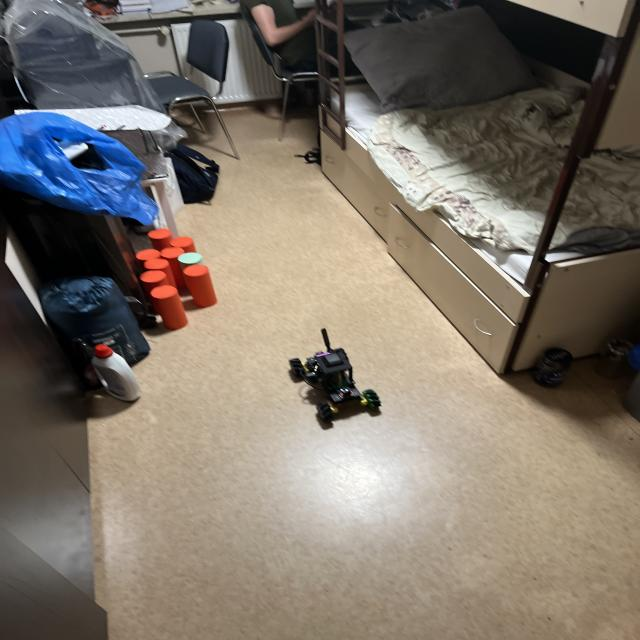robot: (289, 328, 381, 420)
